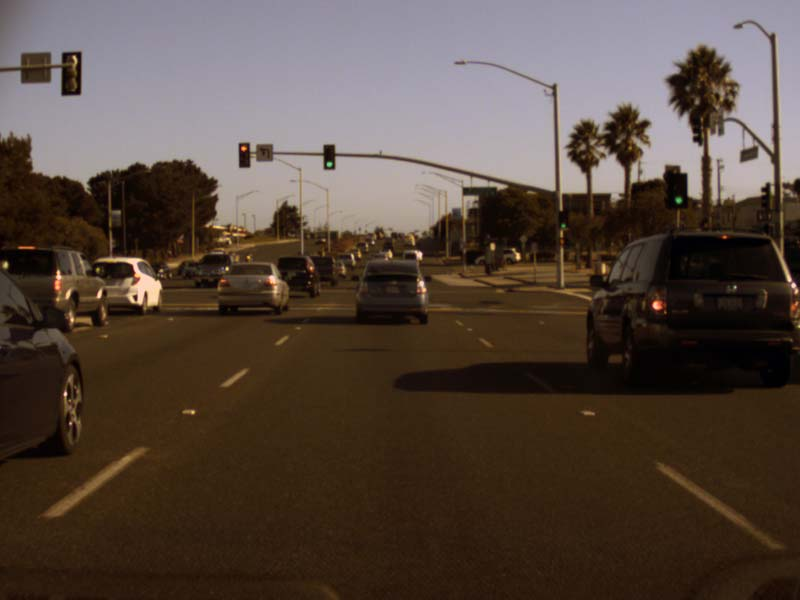Green: (672, 172, 686, 208), (322, 143, 334, 170), (557, 211, 567, 228)
Red: (238, 142, 250, 167)
